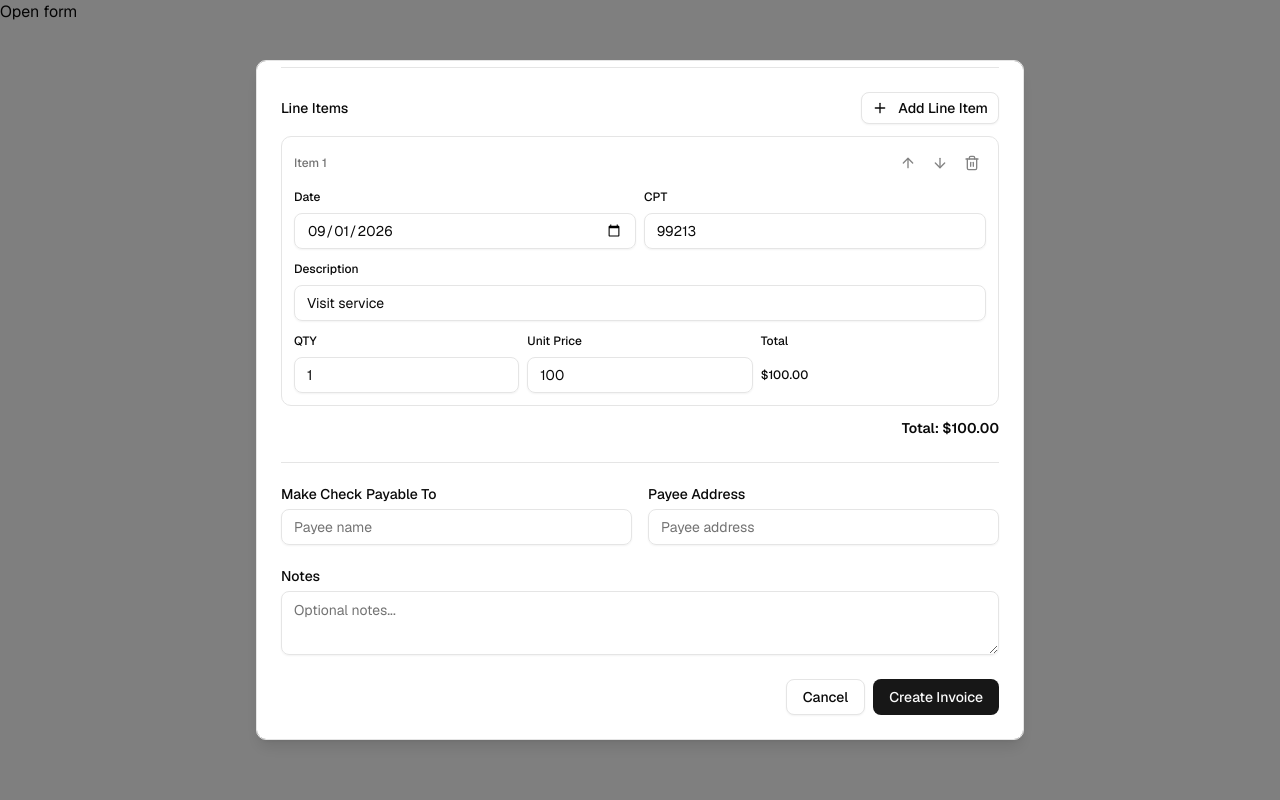
Test case: retains input after returned server failure and allows retry
The image size is (1280, 800).
(page scrolled)
In the text box labelled "Notes": (640, 623) [281, 591, 999, 655], type "Keep these notes"
(page scrolled)
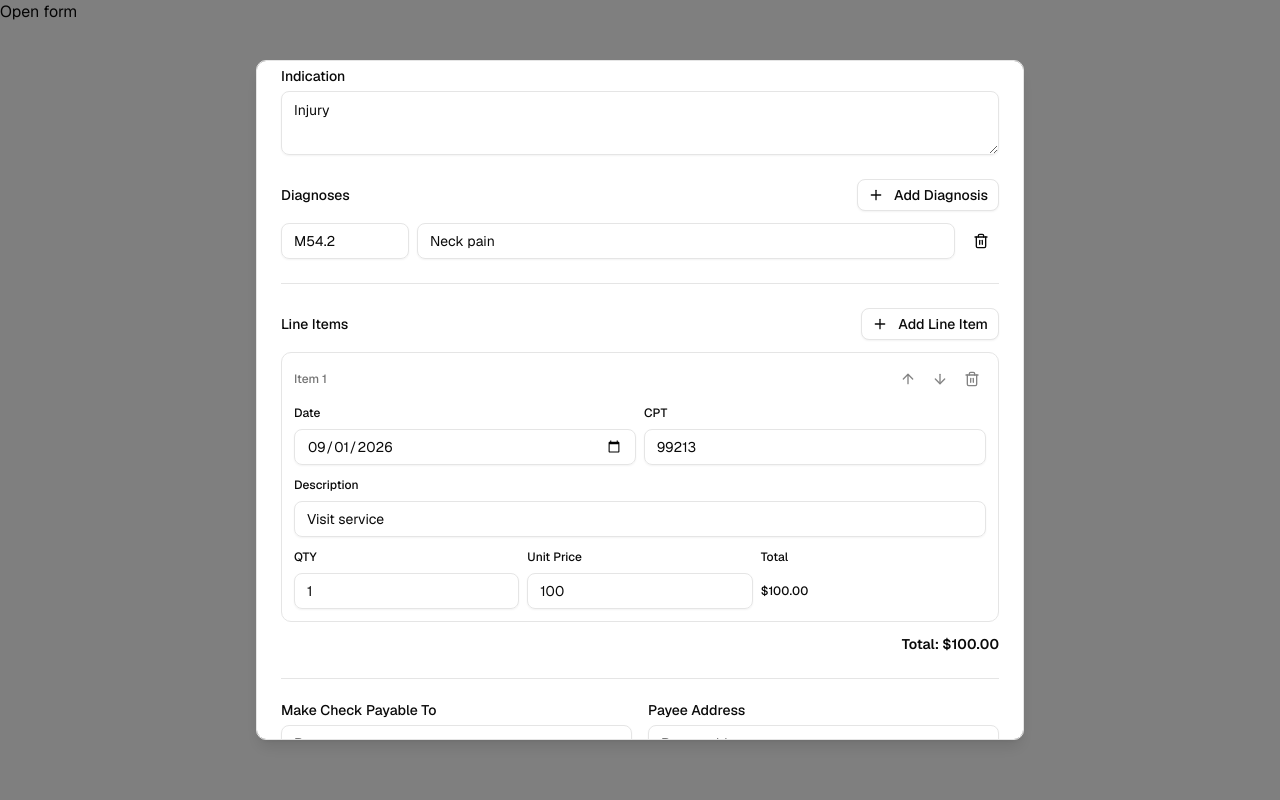
Submit the form
Submit the form
(page scrolled)
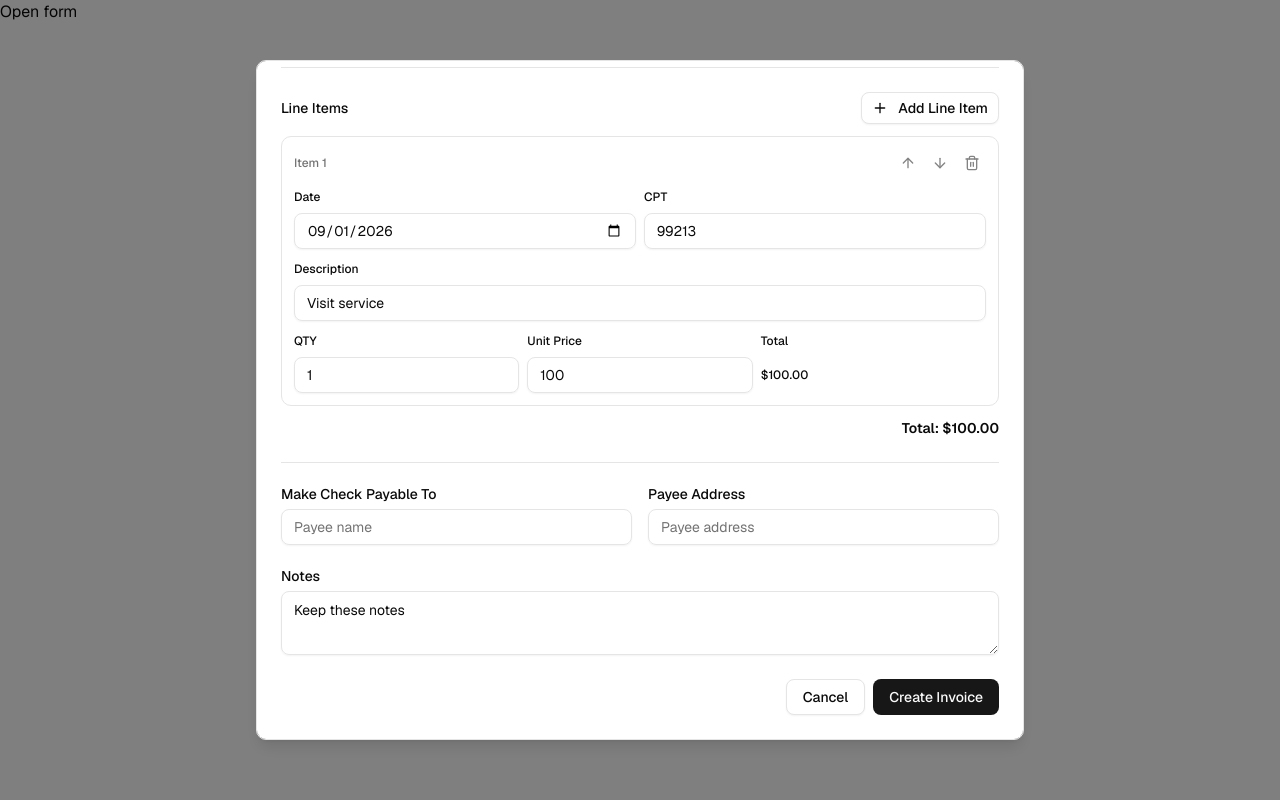
Replace the text in the text box labelled "Notes" with "Corrected notes": (640, 623) [281, 591, 999, 655]
(page scrolled)
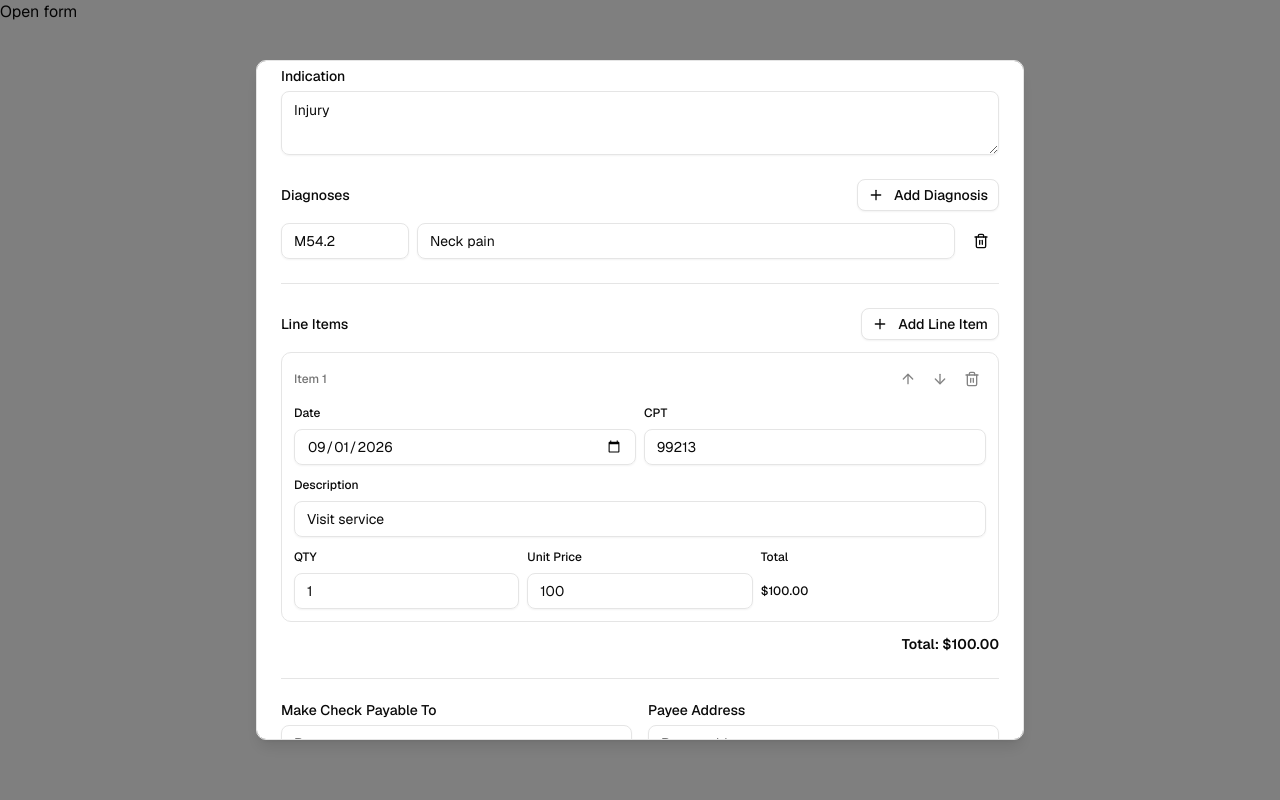
Submit the form
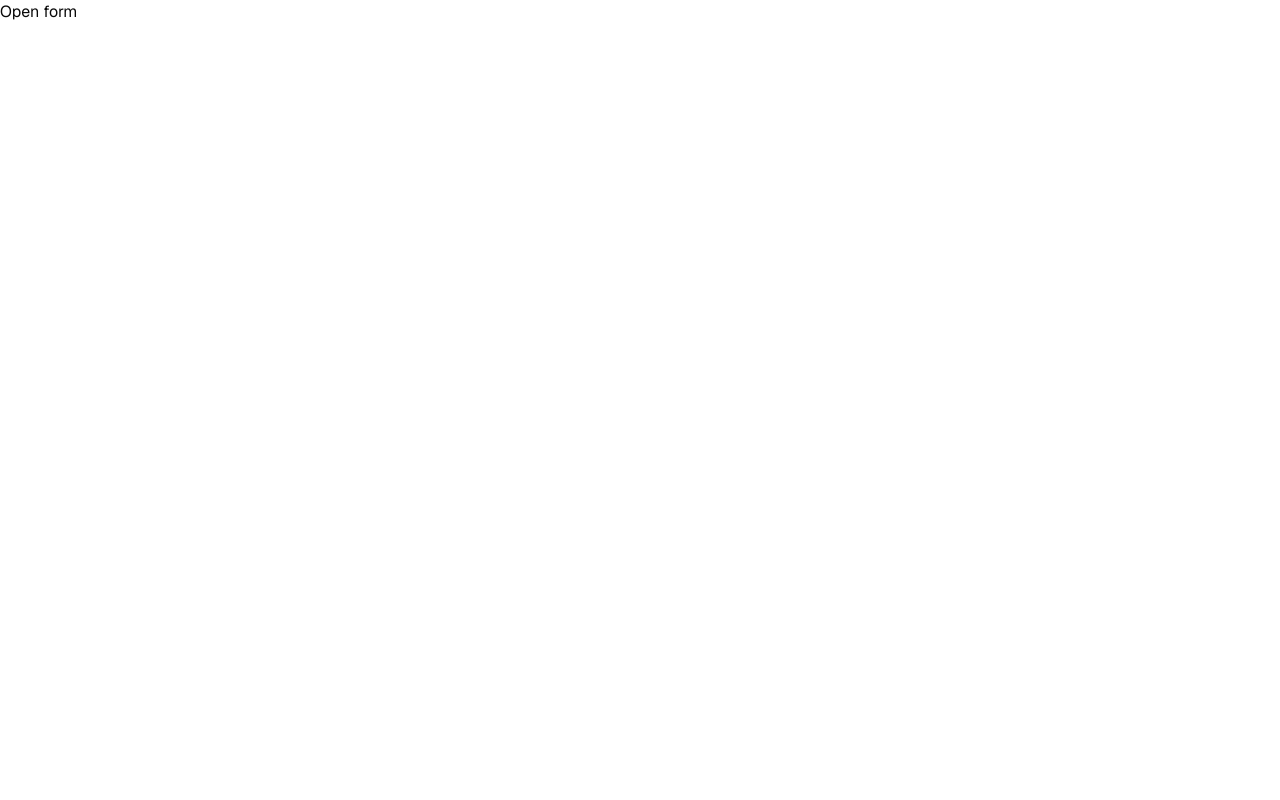
Check: the dialog is gone
